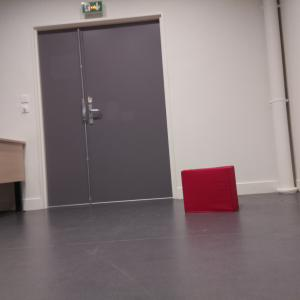medium: (178, 164, 241, 214)
